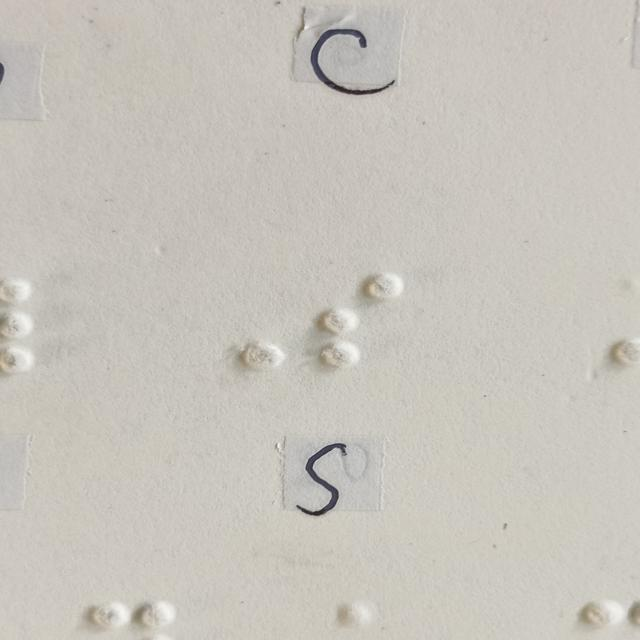S: (323, 275, 402, 368)
capital: (206, 281, 285, 374)
